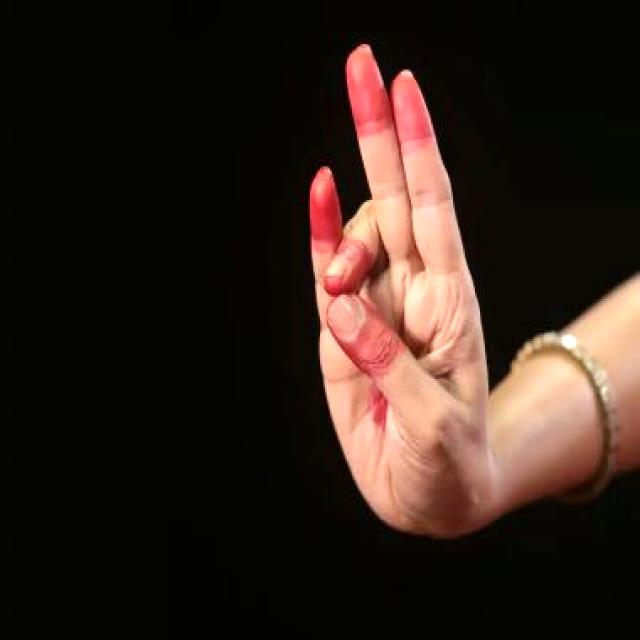Mayura: (276, 25, 525, 550)
